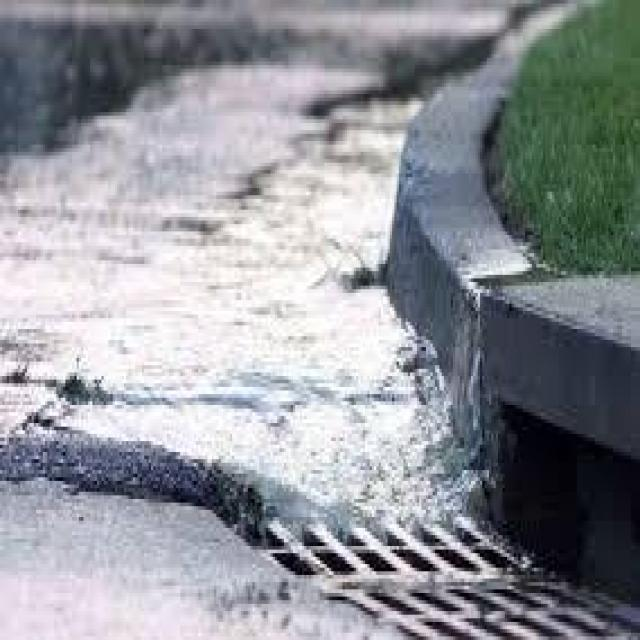curb: (436, 316, 634, 570), (372, 56, 509, 366)
